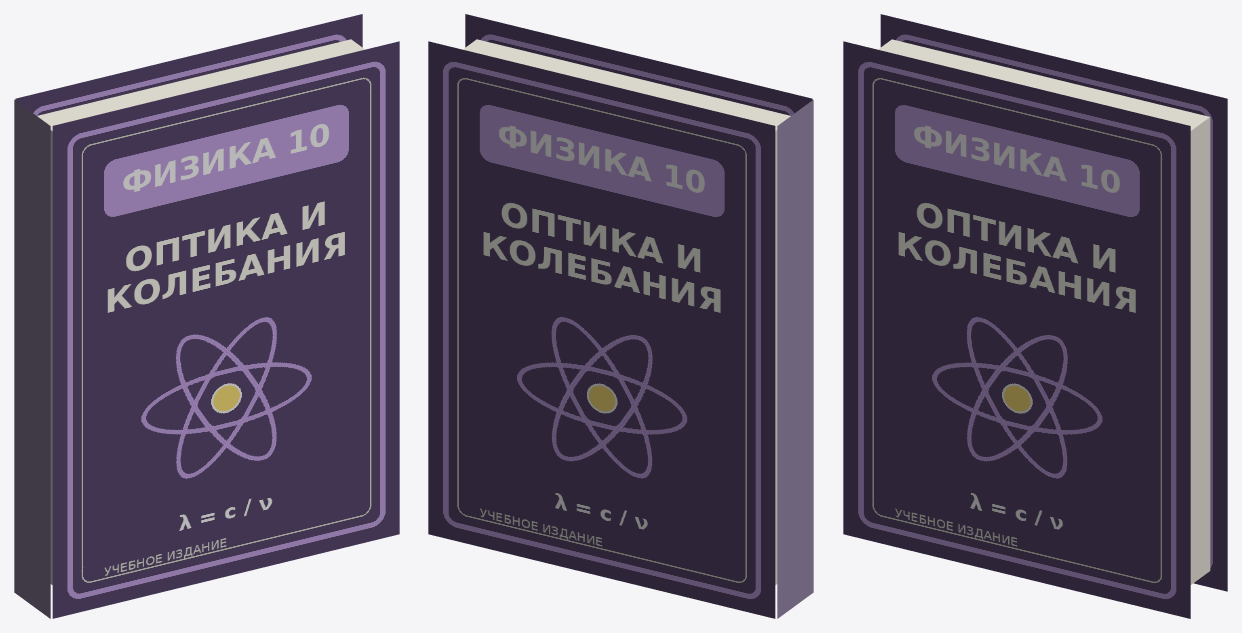
File: book_9.glb
3 views of the same model, side by side, from view 1: azimuth 30°, elevation 25°; view 2: azimuth 150°, elevation 25°; view 3: azimuth 330°, elevation 25° (orthographic).
Visible parts, largest first — view 1: PhysicsBook_10; view 2: PhysicsBook_10; view 3: PhysicsBook_10.
Boxes of the visible parts, bbox=[...] form: PhysicsBook_10: bbox=[14, 14, 399, 618]; PhysicsBook_10: bbox=[428, 14, 813, 618]; PhysicsBook_10: bbox=[843, 14, 1227, 618].
Size of the model in its own units: 0.422 by 0.57 by 0.078.
3 materials, 1 textured.
